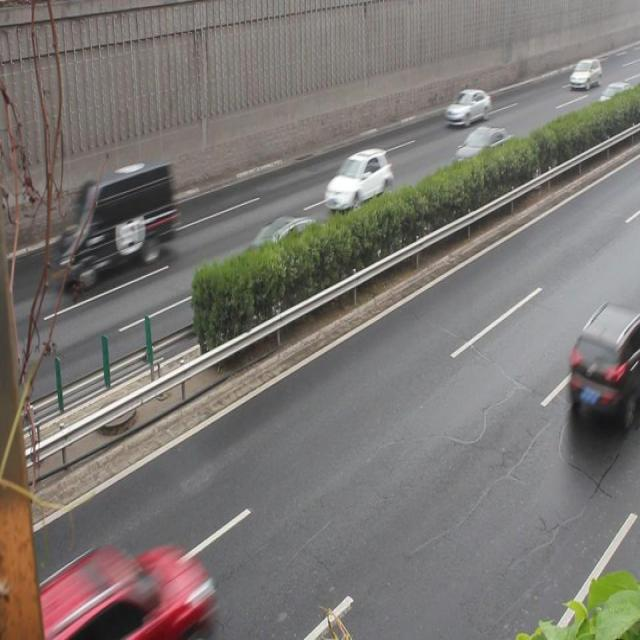car: (44, 538, 215, 640), (567, 304, 640, 426), (242, 215, 321, 288), (324, 148, 393, 213), (449, 128, 512, 183), (444, 88, 490, 129), (595, 81, 633, 122), (566, 58, 599, 90)
truck: (58, 159, 176, 289)
